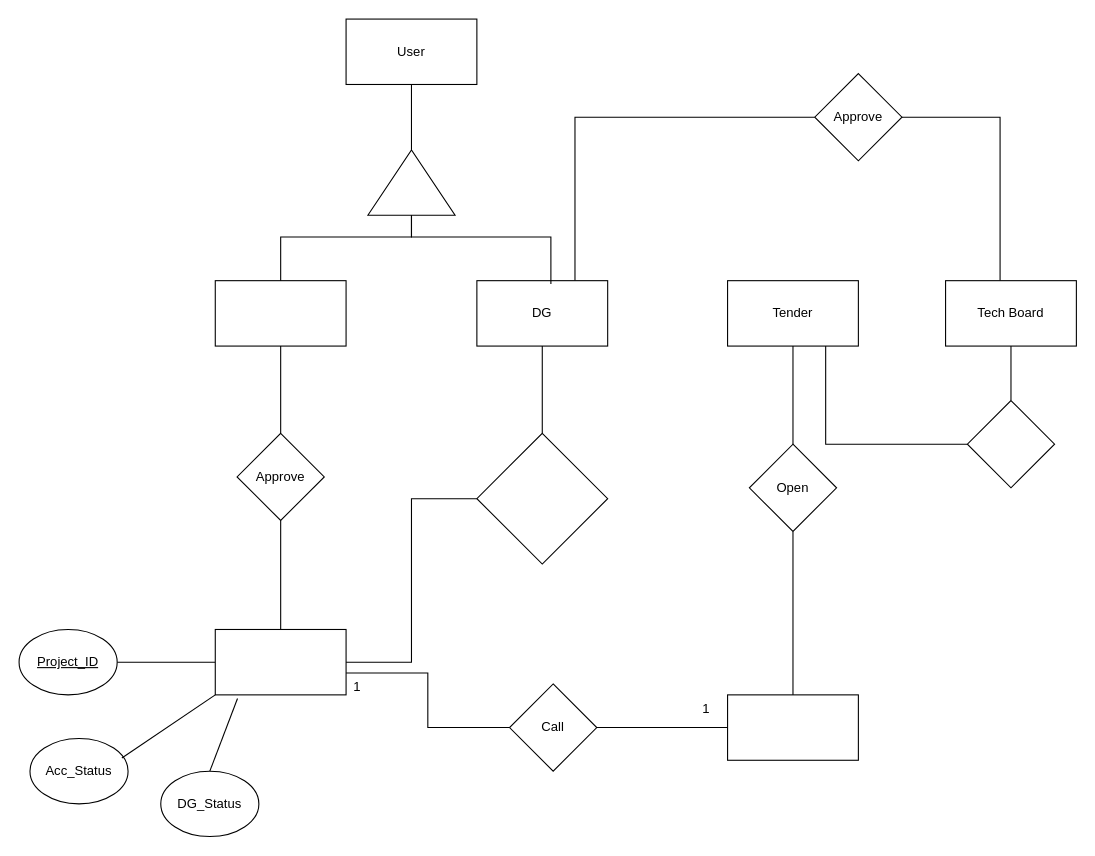
Some shapes in this 1095 by 856 pixel diagram are drawn without their labels. The box of each missing label's shape, as (x1, y1, x2, y2) in pixels:
(If Acc_Status =="Approved") Approve: (476, 432, 608, 564)
Accountant: (214, 280, 346, 346)
Assign: (966, 399, 1055, 488)
Demand: (214, 628, 346, 695)
ISA: (367, 149, 455, 215)
Quotation: (726, 694, 858, 760)
